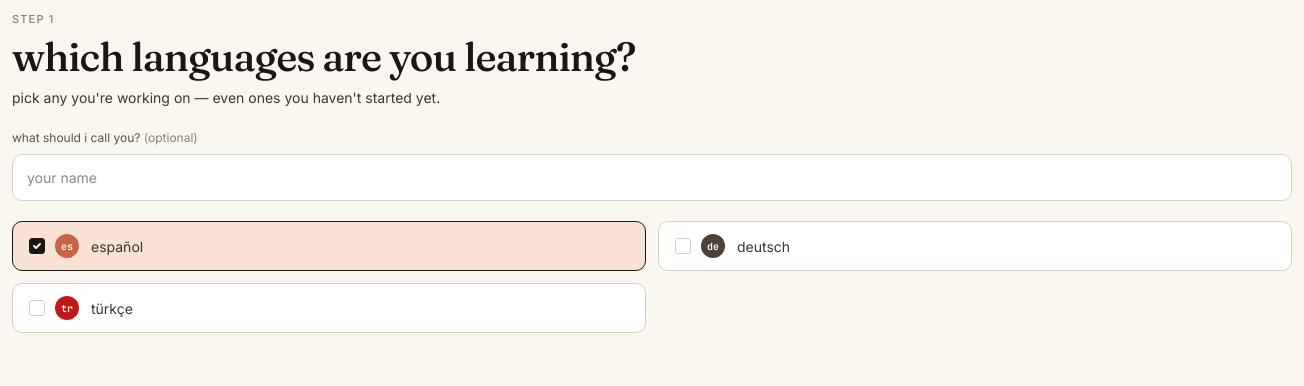
Test: StepLanguages › in edit mode, clicking the last selected tile shows the inline guard message and keeps it selected
Click the checkbox labelled "es español". click: click(117, 246)
box: [12,222,646,272]
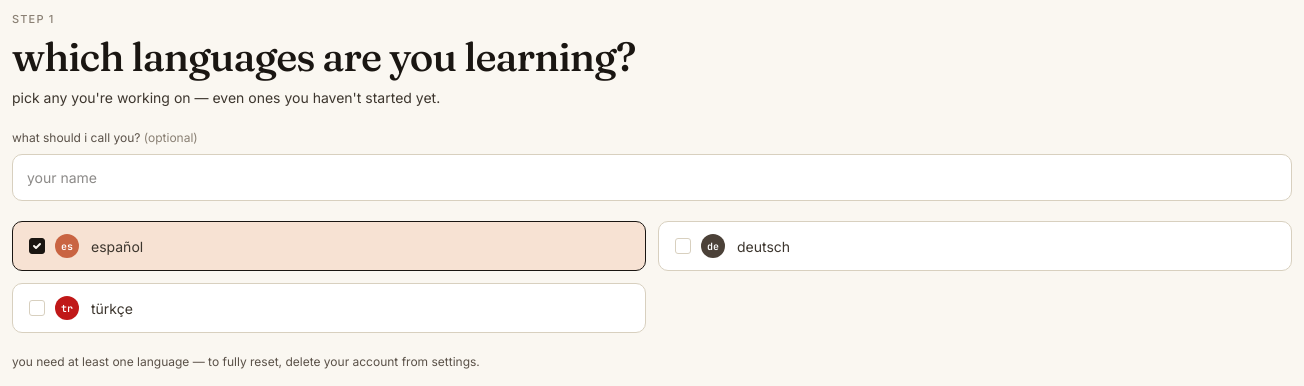
Expected: the message shows "you need at least one language — to fully reset, delete your account from settings.", [12,354,480,370]
